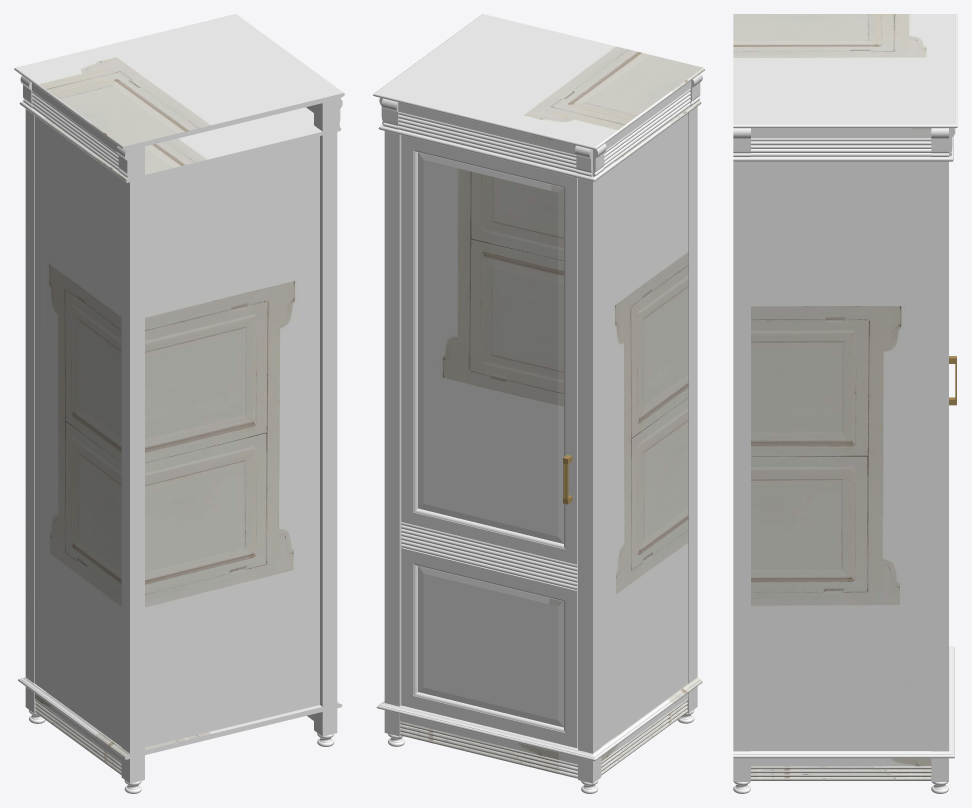
3 renders of one model, left to right at view 1: azimuth 30°, elevation 25°; view 2: azimuth 150°, elevation 25°; view 3: azimuth 270°, elevation 25°, orthographic. The views are drawn at different scales.
Visible parts, largest first — view 1: mesh54_mesh54-geometry, mesh50_mesh50-geometry, mesh9_mesh9-geometry, mesh17_mesh17-geometry, mesh52_mesh52-geometry, mesh11_mesh11-geometry, mesh19_mesh19-geometry, mesh60_mesh60-geometry, mesh34_mesh34-geometry, mesh7_mesh7-geometry, mesh3_mesh3-geometry; view 2: mesh42_mesh42-geometry, mesh50_mesh50-geometry, mesh9_mesh9-geometry, mesh17_mesh17-geometry, mesh31_mesh31-geometry, mesh44_mesh44-geometry, mesh27_mesh27-geometry, mesh46_mesh46-geometry, mesh56_mesh56-geometry, mesh29_mesh29-geometry, mesh58_mesh58-geometry, mesh41_mesh41-geometry (+8 smaller); view 3: mesh5_mesh5-geometry, mesh17_mesh17-geometry, mesh9_mesh9-geometry, mesh21_mesh21-geometry, mesh61_mesh61-geometry, mesh11_mesh11-geometry, mesh52_mesh52-geometry, mesh1_mesh1-geometry, mesh34_mesh34-geometry.
Boxes of the visible parts, left/top/right/bottom form: mesh54_mesh54-geometry: left=145, top=136, right=319, bottom=747; mesh50_mesh50-geometry: left=35, top=116, right=121, bottom=746; mesh9_mesh9-geometry: left=25, top=109, right=337, bottom=753; mesh17_mesh17-geometry: left=14, top=14, right=344, bottom=150; mesh52_mesh52-geometry: left=19, top=101, right=341, bottom=182; mesh11_mesh11-geometry: left=18, top=677, right=342, bottom=759; mesh19_mesh19-geometry: left=32, top=83, right=119, bottom=171; mesh60_mesh60-geometry: left=35, top=693, right=121, bottom=775; mesh34_mesh34-geometry: left=25, top=687, right=337, bottom=783; mesh7_mesh7-geometry: left=314, top=99, right=337, bottom=131; mesh3_mesh3-geometry: left=20, top=76, right=129, bottom=178; mesh42_mesh42-geometry: left=418, top=152, right=563, bottom=543; mesh50_mesh50-geometry: left=601, top=113, right=688, bottom=746; mesh9_mesh9-geometry: left=384, top=106, right=697, bottom=753; mesh17_mesh17-geometry: left=373, top=14, right=704, bottom=150; mesh31_mesh31-geometry: left=418, top=566, right=563, bottom=727; mesh44_mesh44-geometry: left=401, top=135, right=417, bottom=521; mesh27_mesh27-geometry: left=401, top=508, right=576, bottom=748; mesh46_mesh46-geometry: left=564, top=177, right=577, bottom=564; mesh56_mesh56-geometry: left=398, top=102, right=576, bottom=172; mesh29_mesh29-geometry: left=401, top=135, right=577, bottom=601; mesh58_mesh58-geometry: left=401, top=522, right=577, bottom=590; mesh41_mesh41-geometry: left=400, top=714, right=577, bottom=778; mesh5_mesh5-geometry: left=751, top=161, right=931, bottom=750; mesh17_mesh17-geometry: left=733, top=14, right=957, bottom=128; mesh9_mesh9-geometry: left=733, top=161, right=948, bottom=751; mesh21_mesh21-geometry: left=751, top=128, right=931, bottom=156; mesh61_mesh61-geometry: left=751, top=758, right=931, bottom=780; mesh11_mesh11-geometry: left=733, top=646, right=954, bottom=758; mesh52_mesh52-geometry: left=733, top=136, right=953, bottom=161; mesh1_mesh1-geometry: left=733, top=128, right=955, bottom=156; mesh34_mesh34-geometry: left=733, top=758, right=948, bottom=781.
Bounding box in the file's own units: 0.3235 × 0.9057 × 0.2739.
